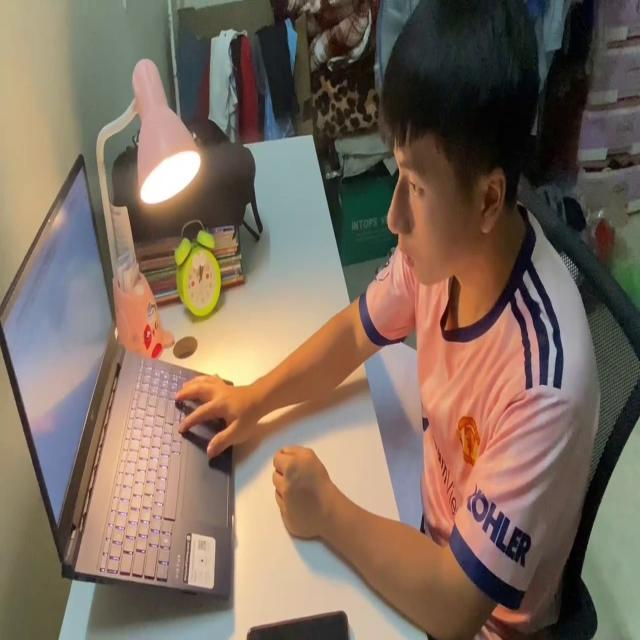book: (354, 327, 426, 533)
laptop: (2, 149, 238, 603)
phone: (246, 609, 350, 640)
student: (175, 0, 599, 640)
